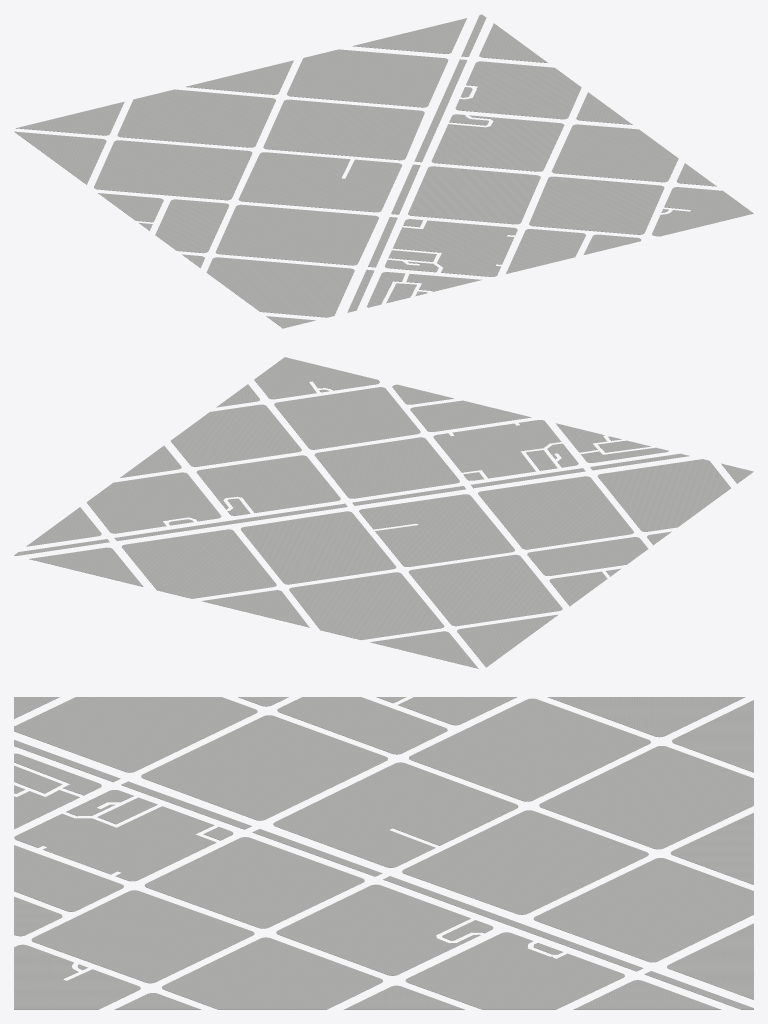
Rendered from Sidewalk_SPIndianopolis1.fbx.
3 views of the same model, one above another, from view 1: azimuth 30°, elevation 25°; view 2: azimuth 150°, elevation 25°; view 3: azimuth 270°, elevation 25° (orthographic). The views are drawn at different scales.
Parts seen in each view (by area): view 1: BézierCurve.124, BézierCurve.108, BézierCurve.114, BézierCurve.113, BézierCurve.107, BézierCurve.105, BézierCurve.125, BézierCurve.038, BézierCurve.039, BézierCurve.045, BézierCurve.033, BézierCurve.051 (+14 smaller); view 2: BézierCurve.124, BézierCurve.108, BézierCurve.114, BézierCurve.113, BézierCurve.107, BézierCurve.105, BézierCurve.125, BézierCurve.038, BézierCurve.039, BézierCurve.045, BézierCurve.033, BézierCurve.051 (+14 smaller); view 3: BézierCurve.124, BézierCurve.108, BézierCurve.114, BézierCurve.113, BézierCurve.107, BézierCurve.105, BézierCurve.125, BézierCurve.038, BézierCurve.039, BézierCurve.045, BézierCurve.033, BézierCurve.051 (+16 smaller).
Boxes of the visible parts, box(x1,y1,x2,y2) form: BézierCurve.124: box(216, 204, 378, 265); BézierCurve.108: box(263, 99, 424, 160); BézierCurve.114: box(238, 152, 402, 212); BézierCurve.113: box(94, 140, 252, 200); BézierCurve.107: box(287, 49, 448, 107); BézierCurve.105: box(117, 89, 275, 147); BézierCurve.125: box(206, 257, 354, 317); BézierCurve.038: box(529, 176, 664, 234); BézierCurve.039: box(408, 166, 540, 224); BézierCurve.045: box(431, 114, 564, 171); BézierCurve.033: box(385, 219, 517, 276); BézierCurve.051: box(455, 61, 581, 119); BézierCurve.124: box(478, 476, 633, 549); BézierCurve.108: box(240, 511, 396, 584); BézierCurve.114: box(359, 494, 514, 566); BézierCurve.113: box(408, 554, 562, 626); BézierCurve.107: box(121, 529, 276, 598); BézierCurve.105: box(289, 572, 444, 639); BézierCurve.125: box(597, 459, 730, 531); BézierCurve.038: box(274, 387, 420, 449); BézierCurve.039: box(314, 437, 459, 498); BézierCurve.045: box(196, 455, 340, 515); BézierCurve.033: box(433, 420, 578, 480); BézierCurve.051: box(86, 472, 221, 533); BézierCurve.124: box(141, 715, 387, 820); BézierCurve.108: box(402, 810, 648, 914); BézierCurve.114: box(273, 762, 518, 867); BézierCurve.113: box(409, 698, 650, 801); BézierCurve.107: box(533, 858, 753, 962); BézierCurve.105: box(539, 746, 753, 849); BézierCurve.125: box(14, 697, 257, 772); BézierCurve.038: box(31, 890, 254, 983); BézierCurve.039: box(144, 837, 364, 928); BézierCurve.045: box(276, 884, 493, 975); BézierCurve.033: box(14, 790, 233, 881); BézierCurve.051: box(405, 932, 624, 1009).
Size of the model in its own units: 50000 by 15 by 50000.
